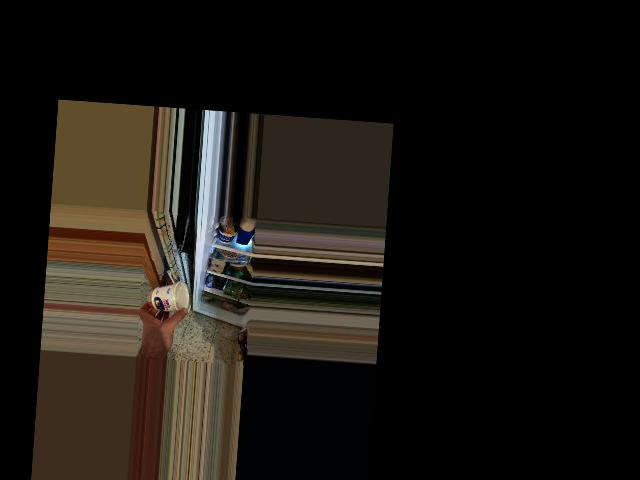cotage: (148, 278, 191, 319)
